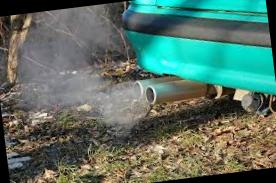Smoke: (19, 0, 161, 131)
